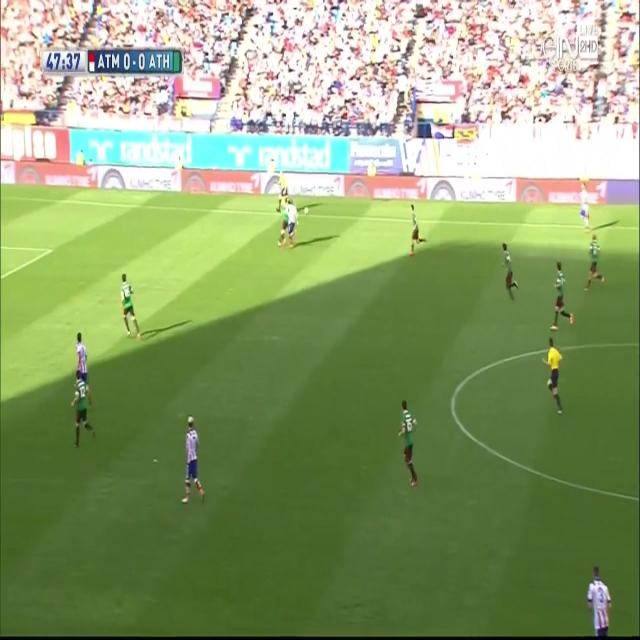Ball: (302, 203, 309, 220)
Player: (176, 411, 208, 511), (583, 564, 616, 638), (69, 371, 97, 454), (396, 396, 420, 490), (548, 258, 575, 333), (120, 272, 145, 345), (406, 200, 430, 261), (500, 240, 522, 305), (586, 231, 607, 297), (73, 329, 90, 376), (285, 197, 299, 247), (579, 183, 591, 230)
Referee: (542, 333, 565, 416), (274, 172, 288, 214)
